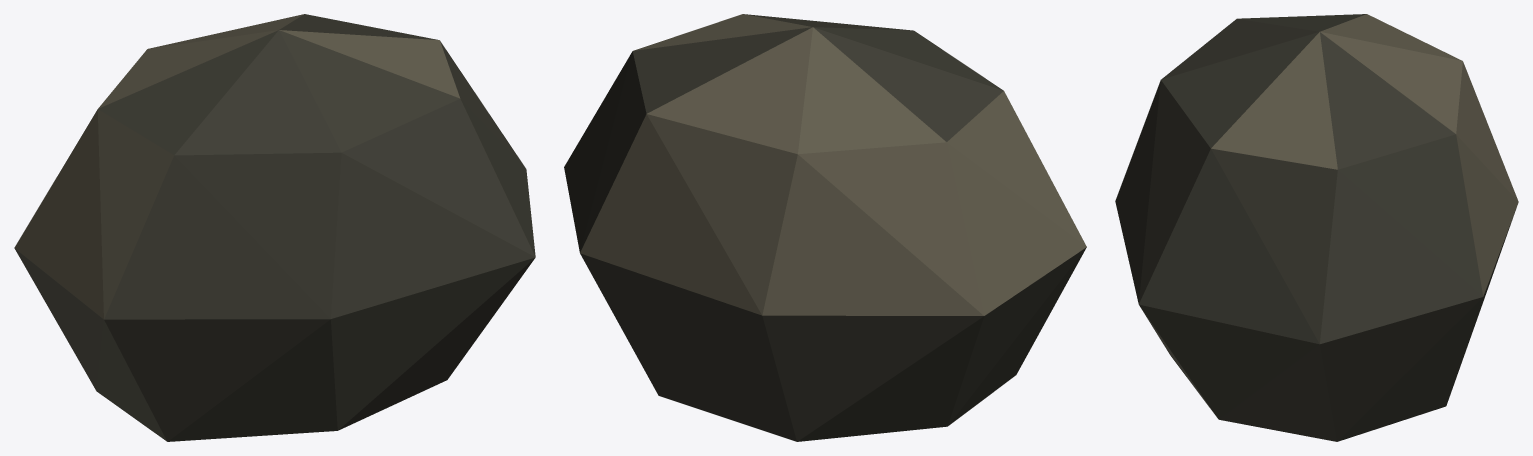
File: Rock_Medium_02.fbx
3 views of the same model, side by side, from view 1: azimuth 30°, elevation 25°; view 2: azimuth 150°, elevation 25°; view 3: azimuth 270°, elevation 25° (orthographic). The views are drawn at different scales.
Parts seen in each view (by area): view 1: Rock_Medium_02_Mesh; view 2: Rock_Medium_02_Mesh; view 3: Rock_Medium_02_Mesh.
Part boxes in pixels (x1,y1,x2,y2): Rock_Medium_02_Mesh: (14,14,535,441); Rock_Medium_02_Mesh: (564,14,1086,441); Rock_Medium_02_Mesh: (1115,14,1518,441).
Size of the model in its own units: 1.04 by 0.84 by 0.7887.
Materials: 1 (1 with a texture image).
